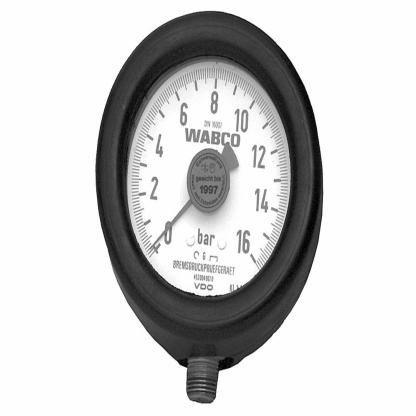needle: (149, 198, 193, 251)
